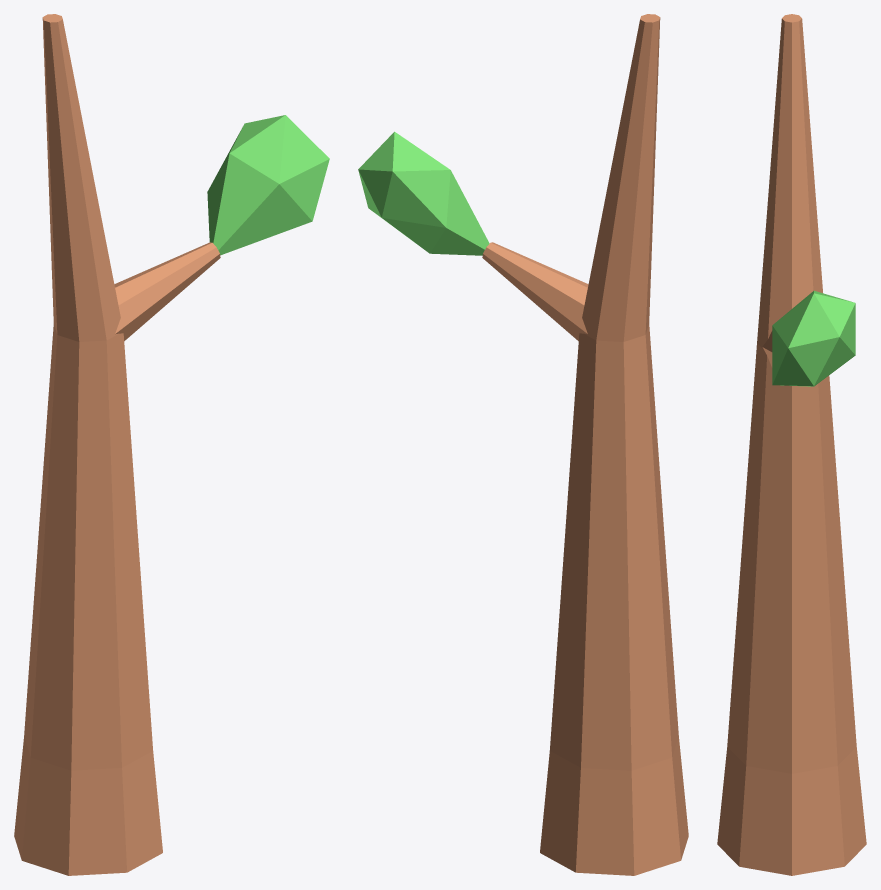
Rendered from Tree_3.fbx.
3 renders of one model, left to right at view 1: azimuth 30°, elevation 25°; view 2: azimuth 150°, elevation 25°; view 3: azimuth 270°, elevation 25°, orthographic. The views are drawn at different scales.
Parts seen in each view (by area): view 1: Tree_3; view 2: Tree_3; view 3: Tree_3.
Part boxes in pixels (bbox=[...]): Tree_3: bbox=[14, 14, 329, 875]; Tree_3: bbox=[358, 14, 688, 875]; Tree_3: bbox=[717, 14, 866, 875].
Bounding box in the file's own units: 458 × 1194 × 200.
